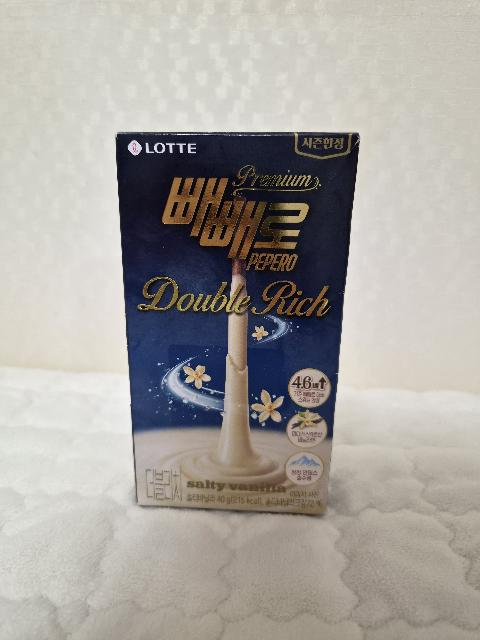pepero: (115, 131, 361, 515)
